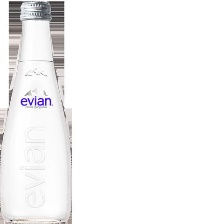bottle: (0, 0, 77, 224)
